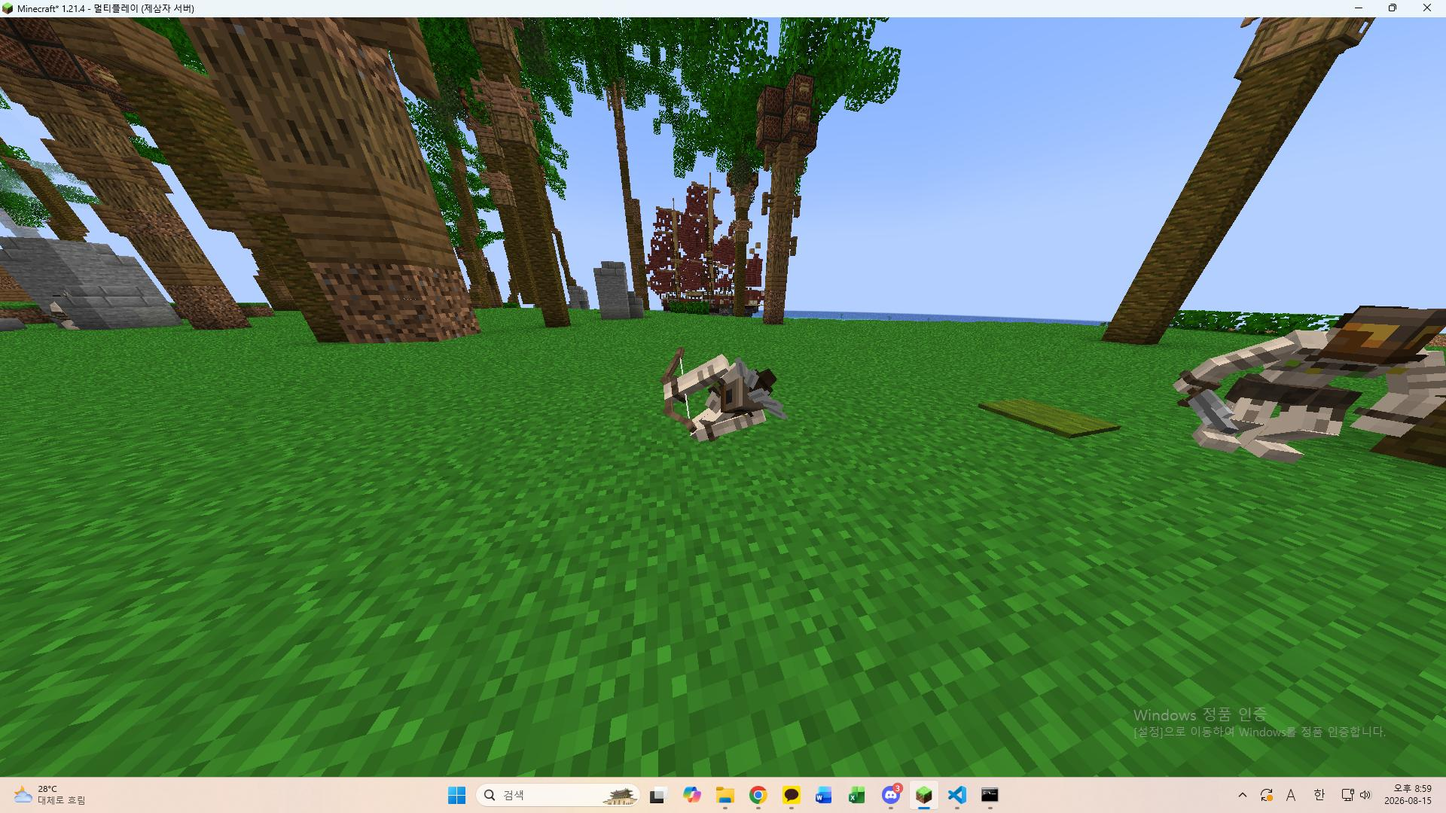bow_indian: (635, 329, 847, 454)
